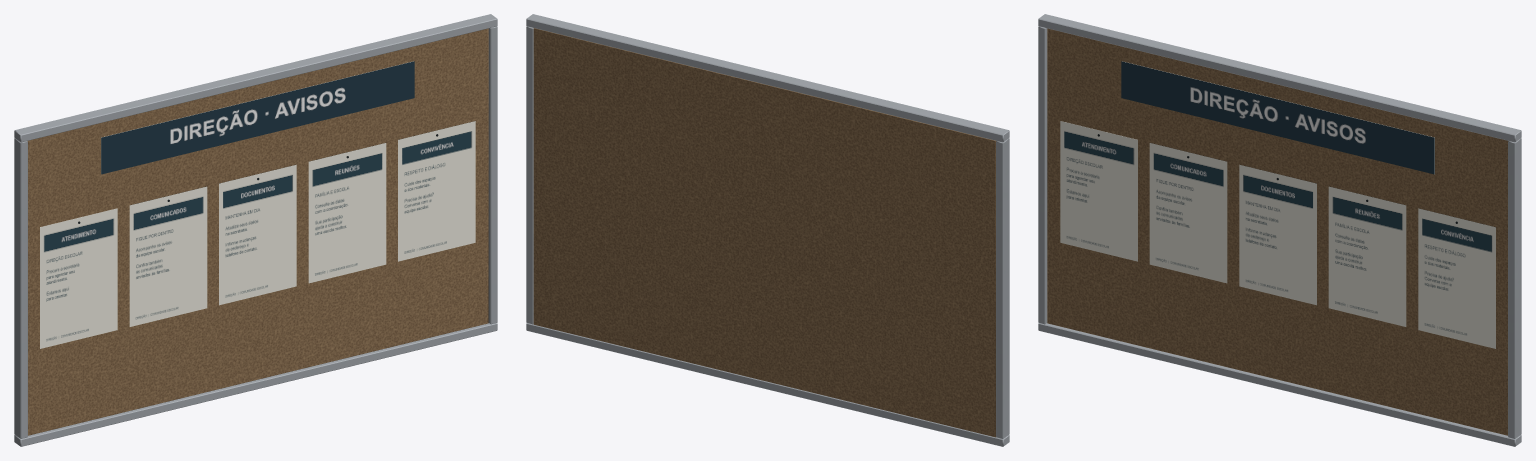
File: quadro_avisos_direcao_realista.glb
3 renders of one model, left to right at view 1: azimuth 30°, elevation 25°; view 2: azimuth 150°, elevation 25°; view 3: azimuth 330°, elevation 25°, orthographic.
Visible parts, largest first — view 1: Quadro_Direcao_PBR; view 2: Quadro_Direcao_PBR; view 3: Quadro_Direcao_PBR.
Boxes of the visible parts, x1,y1,x2,y2 form: Quadro_Direcao_PBR: (14, 14, 497, 446); Quadro_Direcao_PBR: (526, 14, 1009, 446); Quadro_Direcao_PBR: (1038, 14, 1521, 446).
Bounding box in the file's own units: 1.6 × 1 × 0.04.
Materials: 1 (1 with a texture image).
